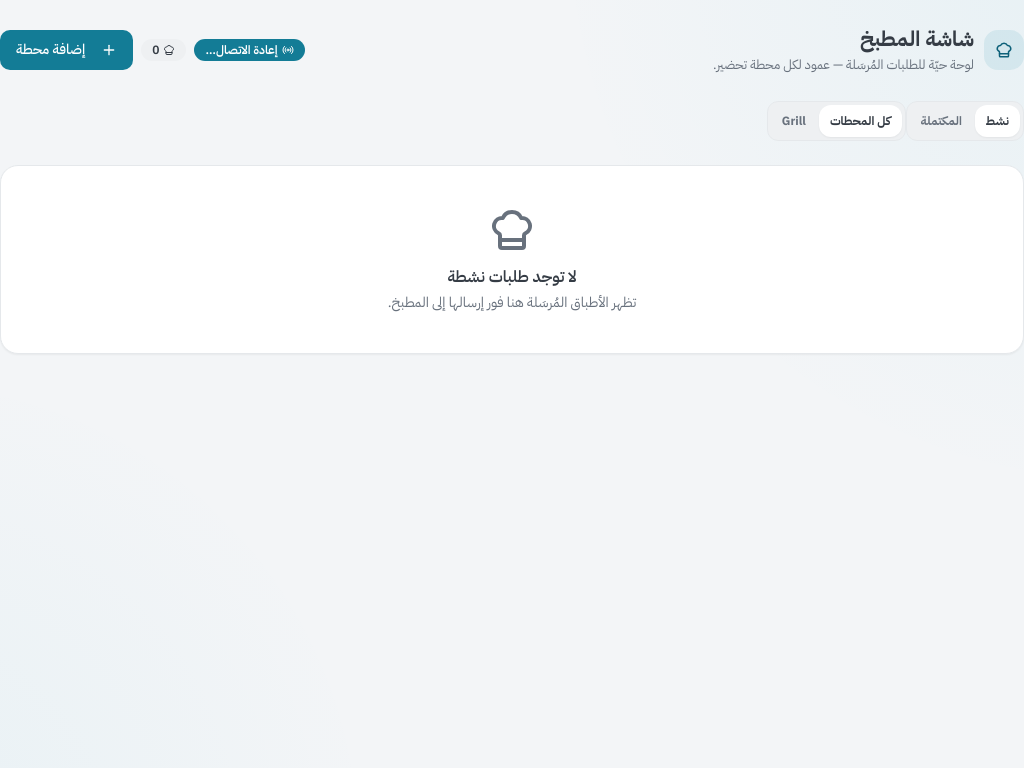
Test: KDS add-station placeholders localize (ISSUE-244) › does not show the hardcoded English "Grill" placeholder in Arabic
The width and height of the screenshot is (1024, 768).
What coordinates should you click on to do the following:
click the button "إضافة محطة"
I would click on:
 (67, 50)
Its box is [0,30,133,70].
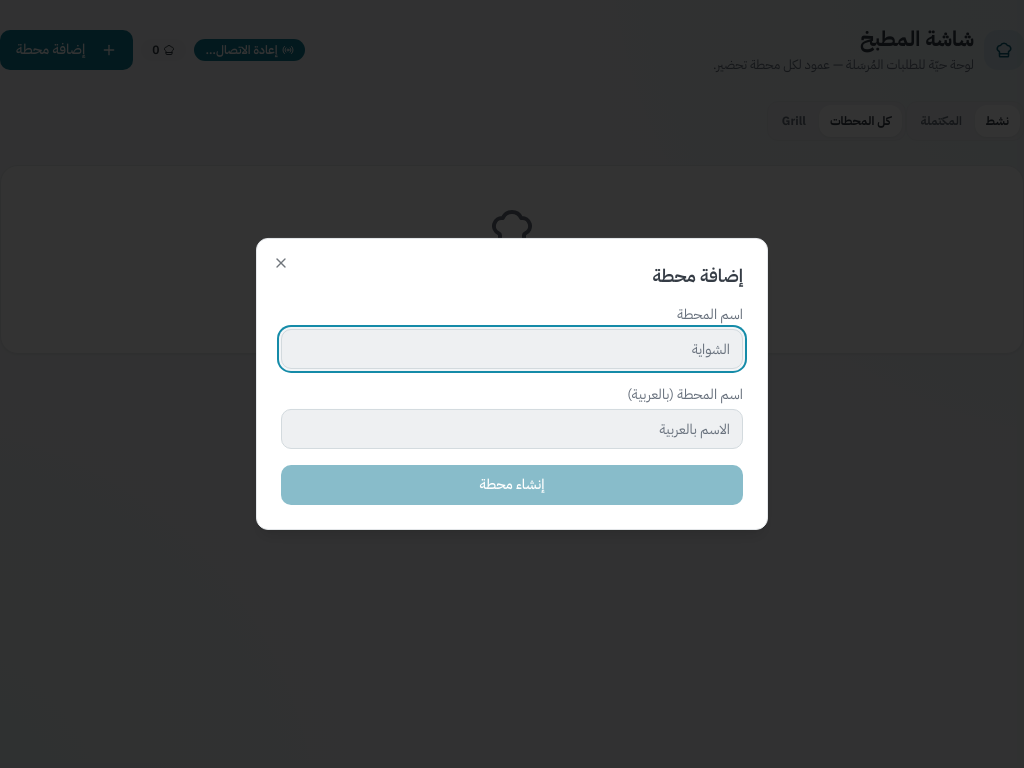
Expected: the field with placeholder "الشواية" is shown, [281,329,743,369]
